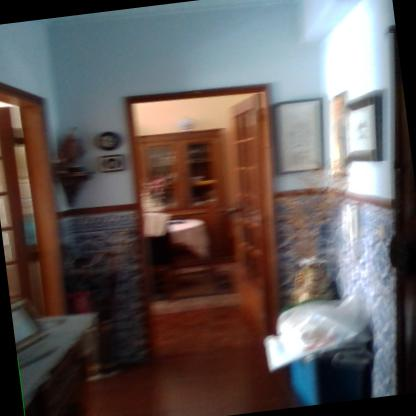open: (110, 74, 300, 360)
